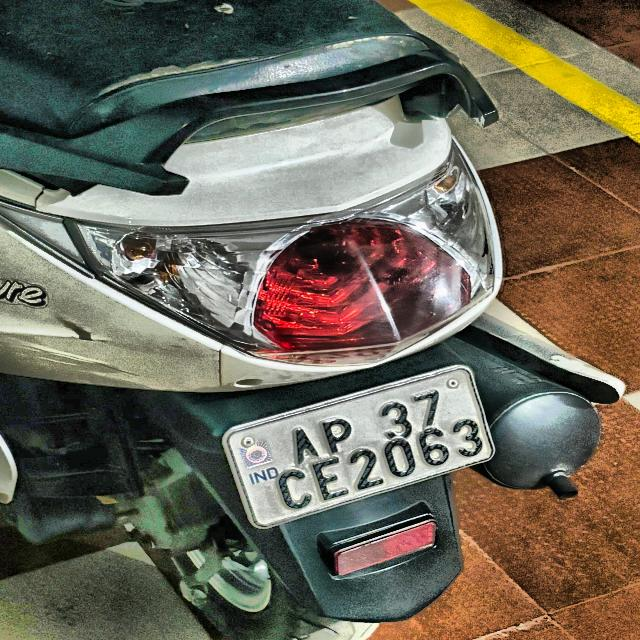license-plate: (224, 366, 498, 528)
